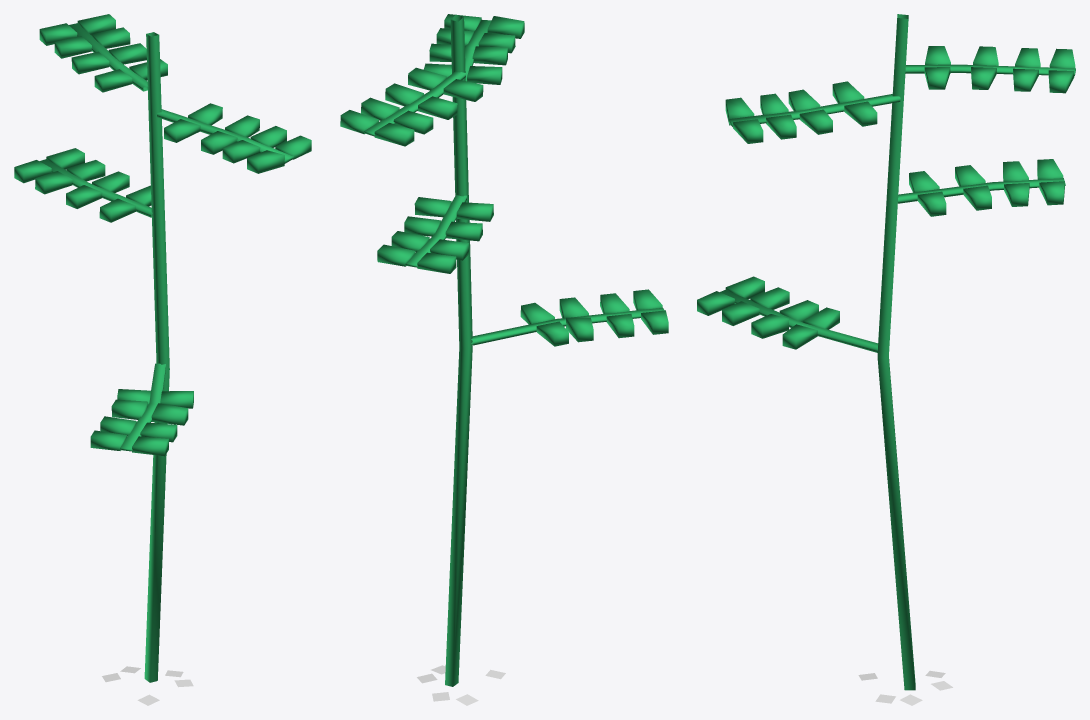
The model's file is chickpeas.glb.
The picture shows the model from 3 angles, left to right: view 1: azimuth 30°, elevation 25°; view 2: azimuth 150°, elevation 25°; view 3: azimuth 270°, elevation 25°; orthographic projection. The views are drawn at different scales.
Visible parts, largest first — view 1: chickpeas; view 2: chickpeas; view 3: chickpeas.
Part boxes in pixels (box(x1,y1,x2,y2)): chickpeas: box(14, 14, 311, 682); chickpeas: box(340, 14, 668, 686); chickpeas: box(697, 14, 1075, 690).
Bounding box in the file's own units: 0.3923 × 1.12 × 0.5701.
1 material, 1 textured.
